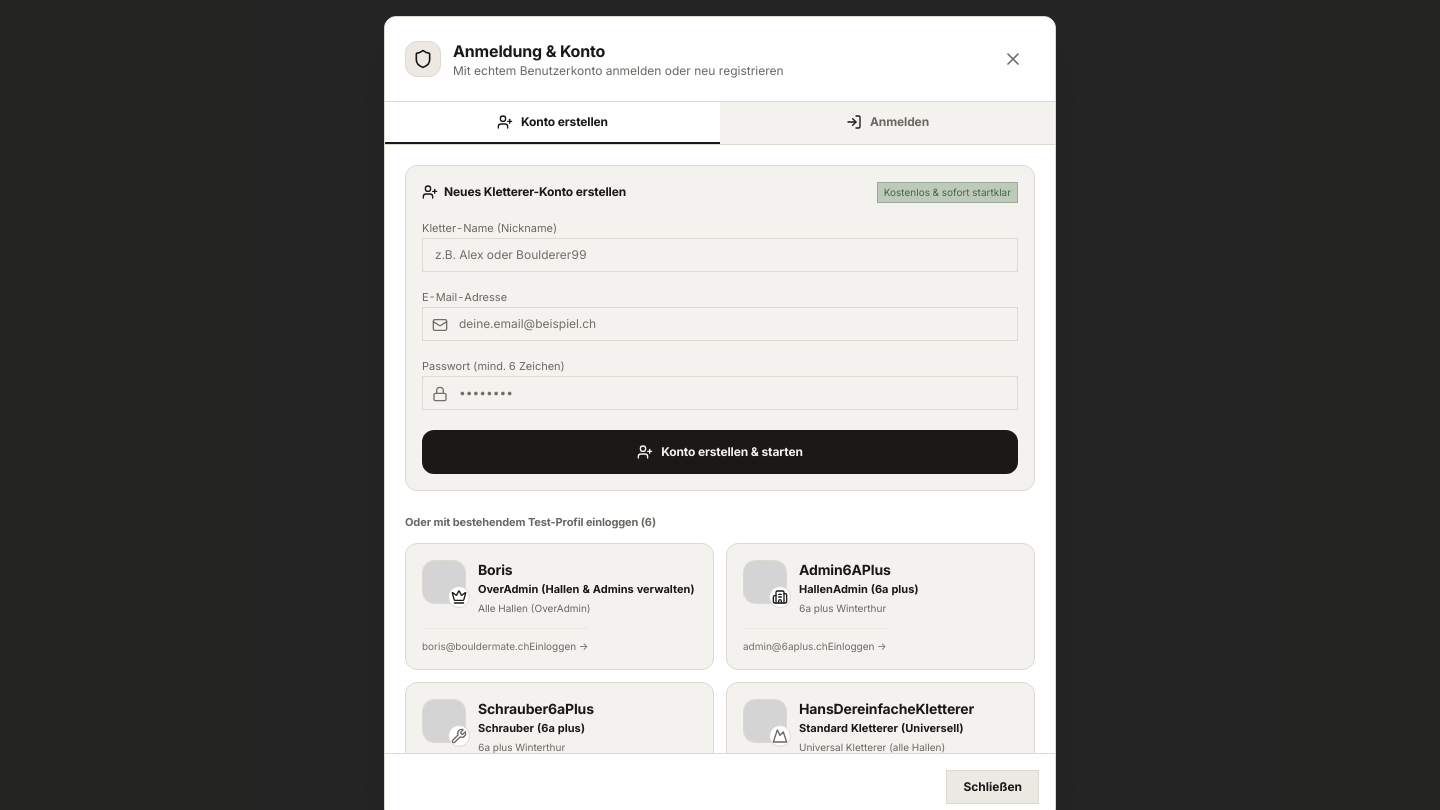
Test: SPEC-020 Redesign «Kreide» & Text-Diät › Login & Registrierung › verlangt ein Passwort mit mindestens 6 Zeichen statt eines Standardpassworts
Type "neu@klettern.ch" into the field with test id "input-register-email".
click(720, 324); type("neu@klettern.ch")  # box [422, 307, 1018, 341]
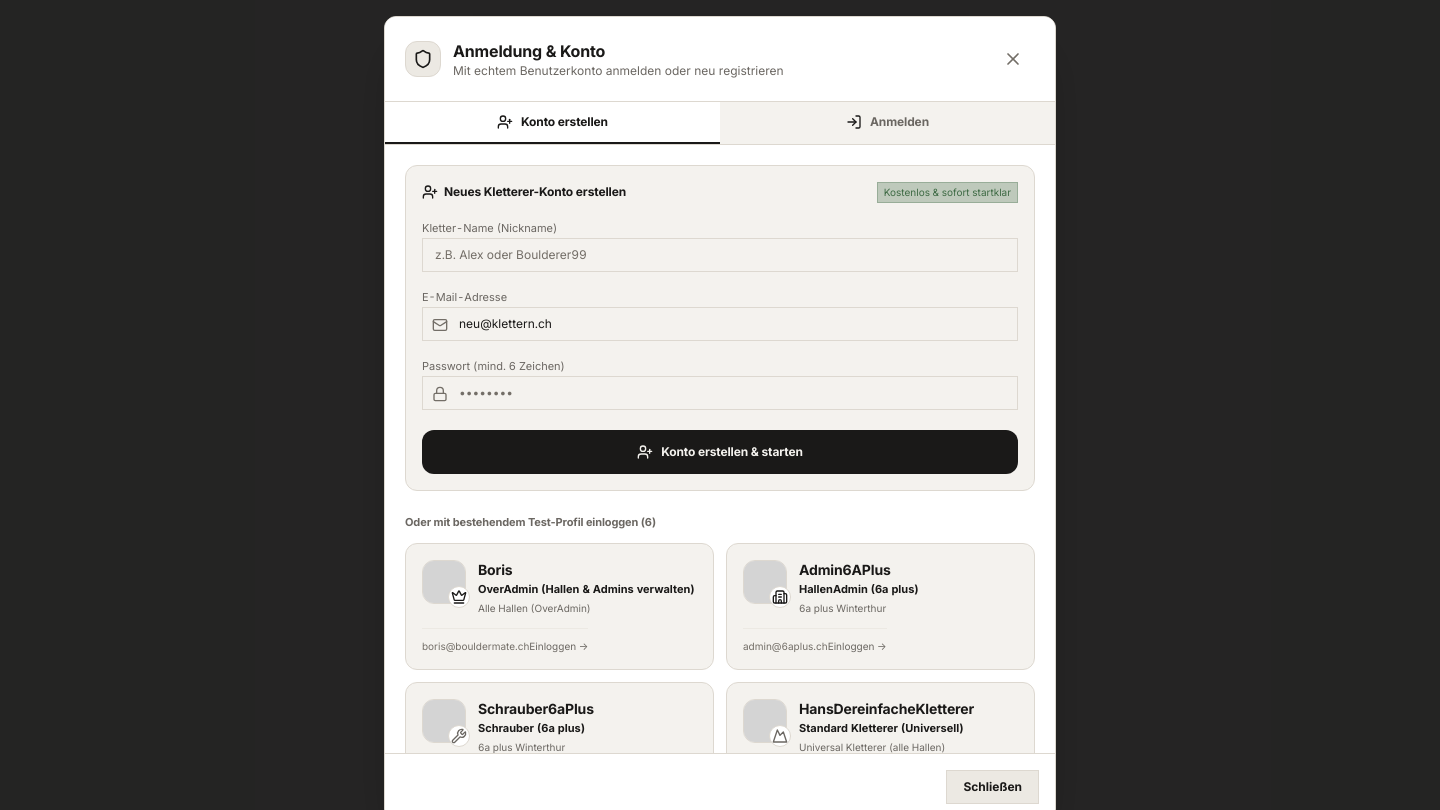
Click the button with test id "btn-register-submit".
click(720, 452)  # box [422, 430, 1018, 474]
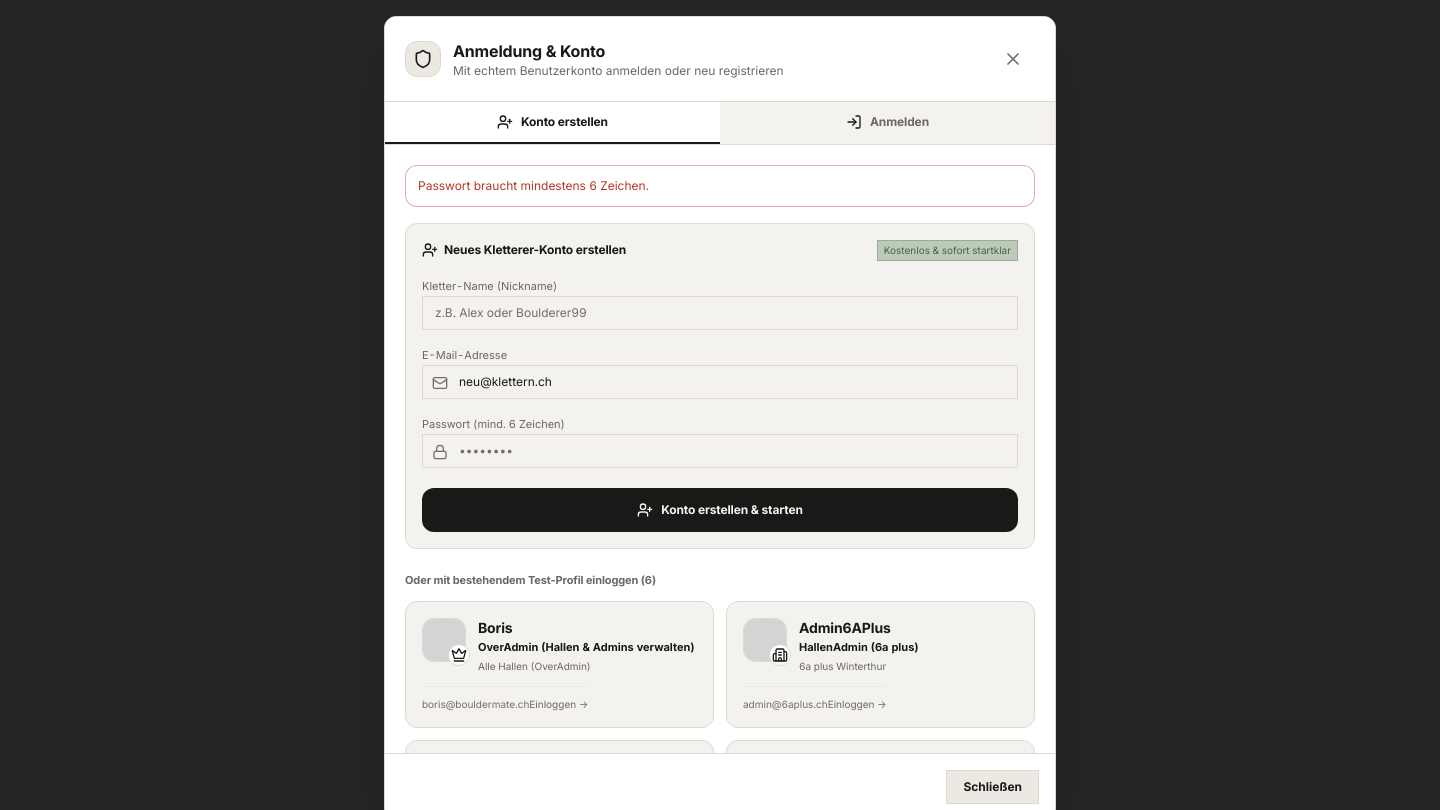
Check: the text "Passwort braucht mindestens 6 Zeichen." is shown, box [418, 178, 649, 194]
